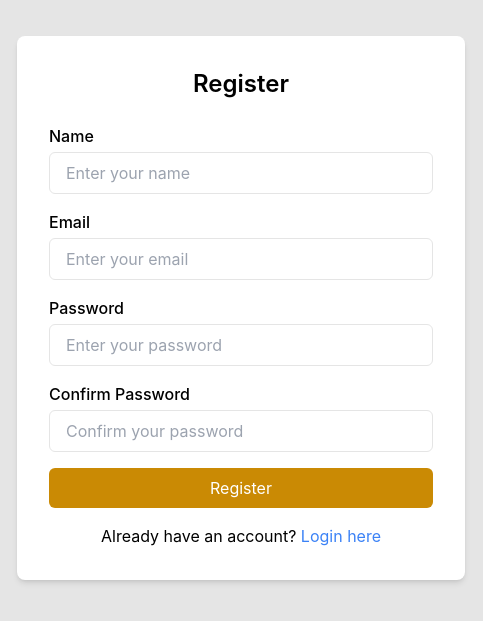
Test: Auth Feature - Render and CRUD Tests › Register Functionality › should display error message on registration failure
Type "Existing User" into the field labelled "Name" at (241,173), box [49, 152, 433, 194]
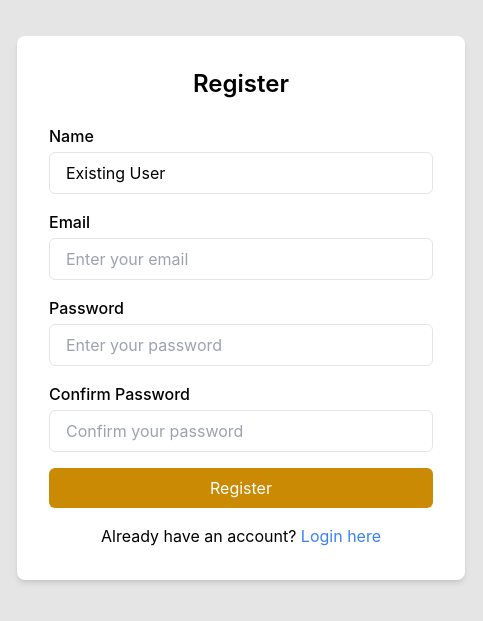
Type "existinguser@example.com" into the field labelled "Email" at (241,259), box [49, 238, 433, 280]
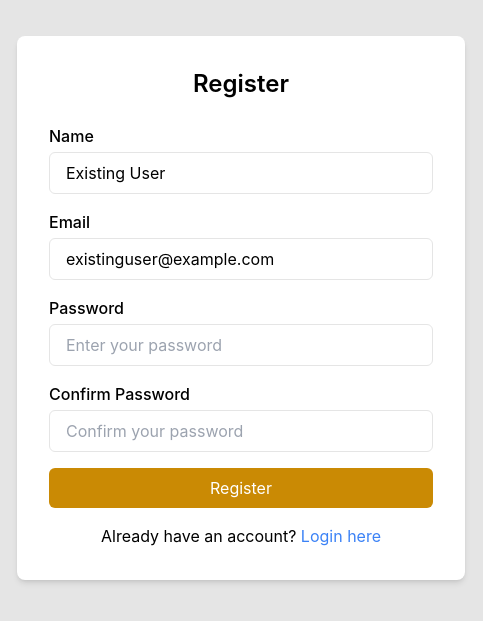
Type "password123" into the password field labelled "Password" at (241,345), box [49, 324, 433, 366]
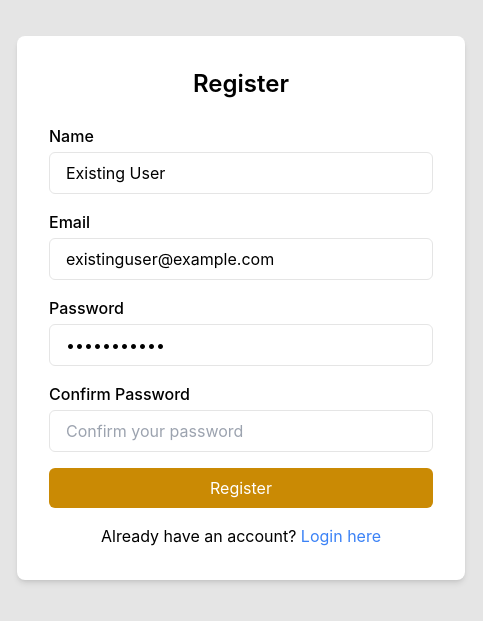
Type "password123" into the password field labelled "Confirm Password" at (241,431), box [49, 410, 433, 452]
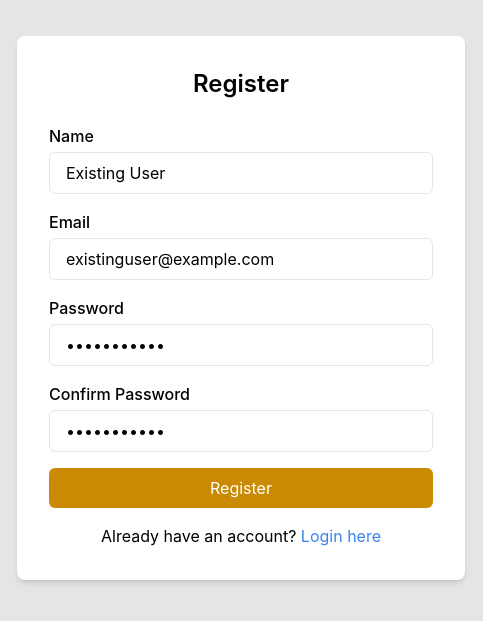
Click the button "Register" at (241,488), box [49, 468, 433, 508]
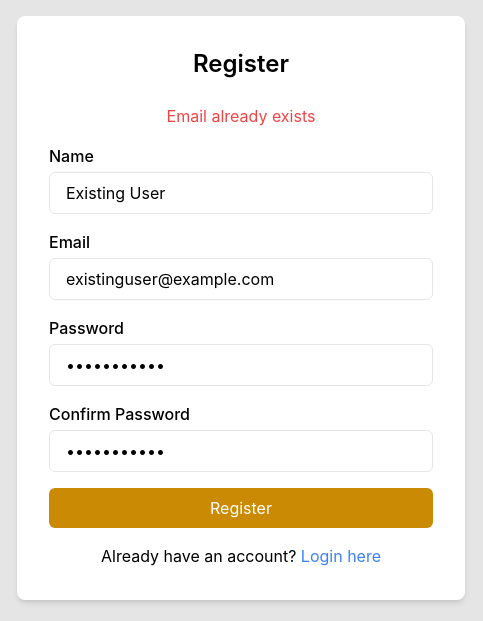
Now the message reads "Email already exists", box [167, 106, 316, 126]
